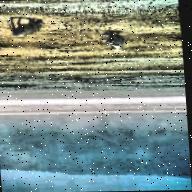boar: (92, 29, 131, 65), (10, 13, 52, 42)
